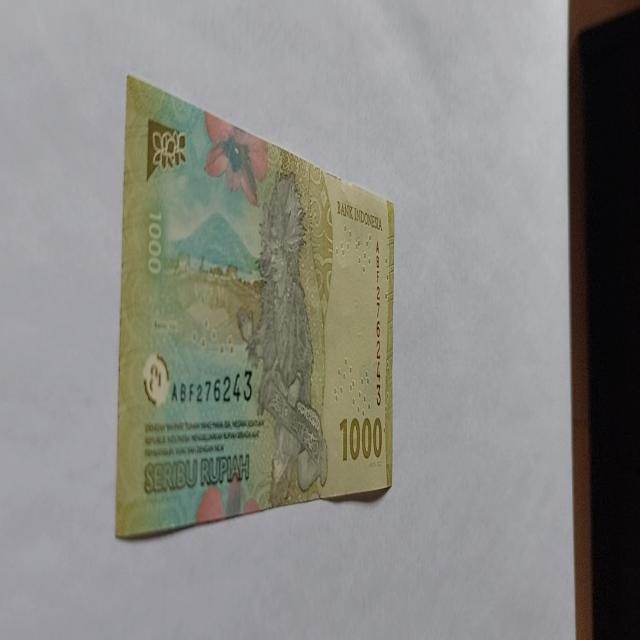seribu rupiah kertas: (114, 72, 396, 540)
